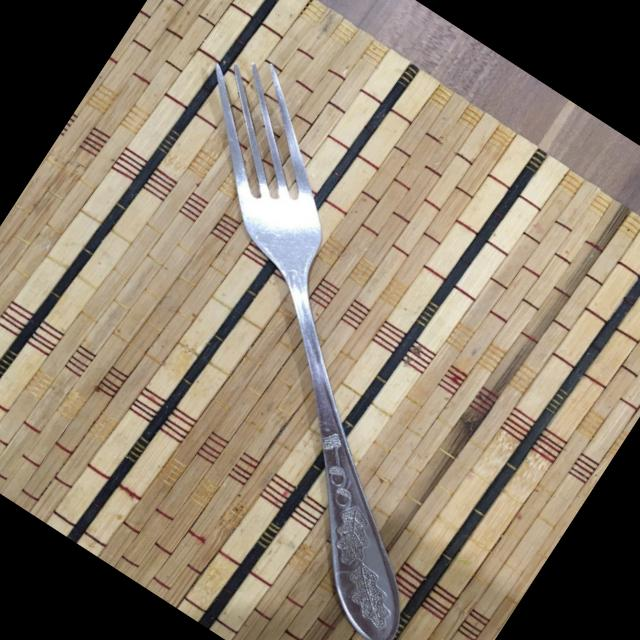fork: (0, 36, 618, 640)
